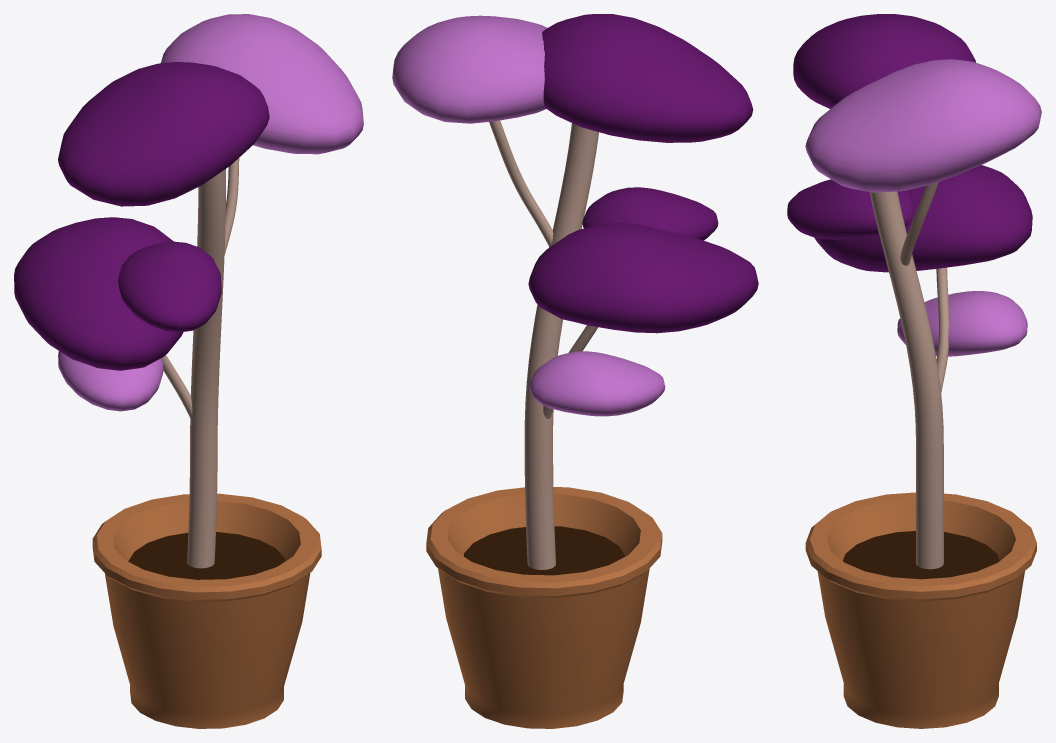
Rendered from props_plante.fbx.
3 views of the same model, side by side, from view 1: azimuth 30°, elevation 25°; view 2: azimuth 150°, elevation 25°; view 3: azimuth 270°, elevation 25° (orthographic). The views are drawn at different scales.
Visible parts, largest first — view 1: plante; view 2: plante; view 3: plante.
Part boxes in pixels (left/top/right/bottom): plante: left=14, top=14, right=363, bottom=728; plante: left=392, top=14, right=758, bottom=728; plante: left=787, top=14, right=1041, bottom=728.
Bounding box in the file's own units: 0.0419 × 0.0832 × 0.0295.
